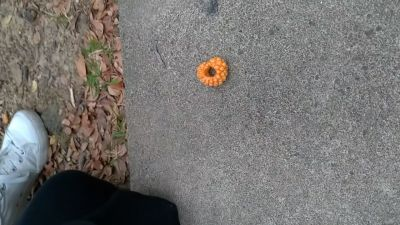eggs: (196, 55, 231, 88)
